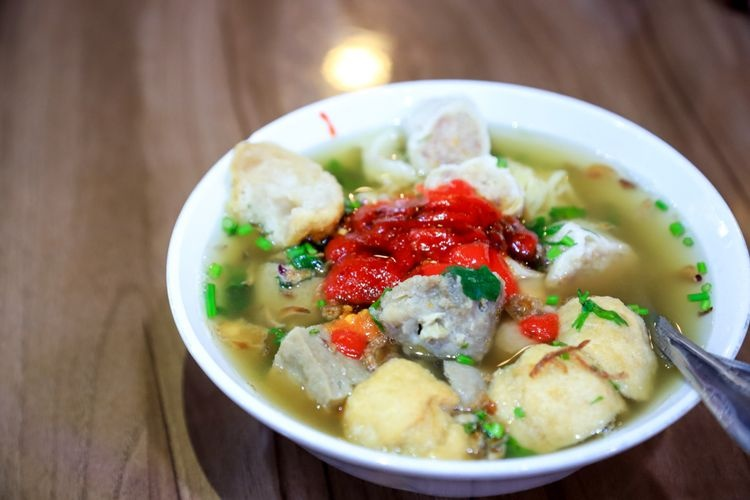bakso_malang: (228, 102, 714, 460)
